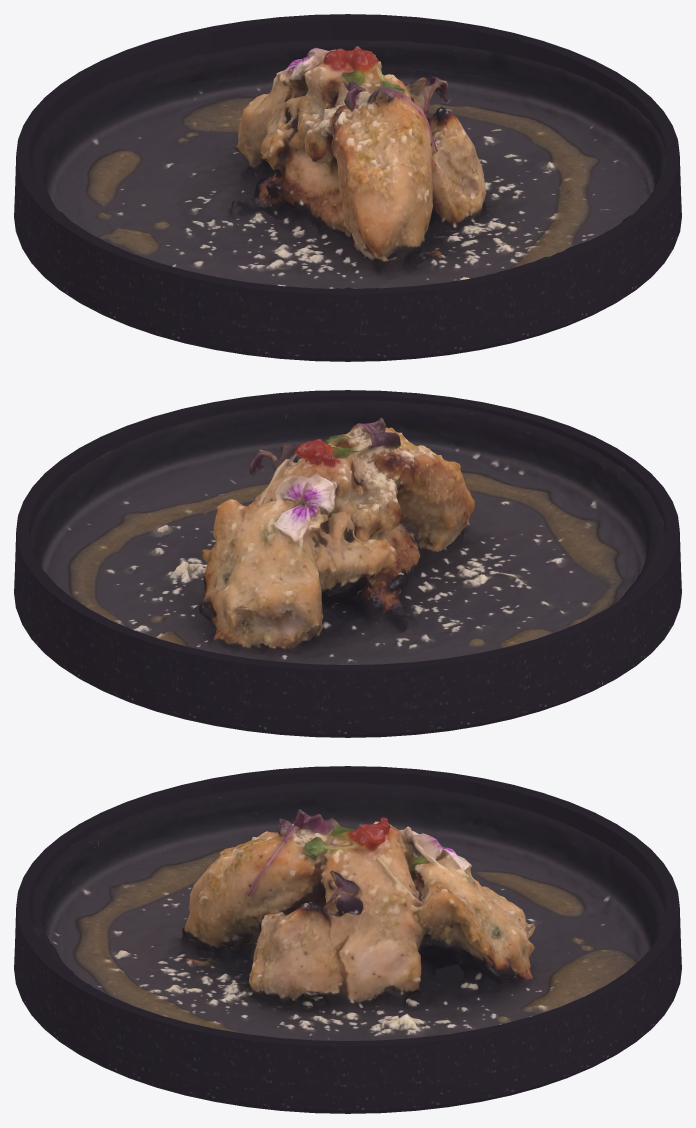
The model's file is Bong Kebab.glb.
The picture shows the model from 3 angles, top to bottom: view 1: azimuth 30°, elevation 25°; view 2: azimuth 150°, elevation 25°; view 3: azimuth 270°, elevation 25°; orthographic projection.
Visible parts, largest first — view 1: model7:default1, pCylinder1.001; view 2: model7:default1, pCylinder1.001; view 3: model7:default1, pCylinder1.001.
Part boxes in pixels (<box>): model7:default1: <box>30,39,666,288</box>; pCylinder1.001: <box>14,14,681,361</box>; model7:default1: <box>30,400,665,664</box>; pCylinder1.001: <box>14,390,681,737</box>; model7:default1: <box>29,781,665,1040</box>; pCylinder1.001: <box>14,766,681,1113</box>.
Size of the model in its own units: 0.1477 by 0.0396 by 0.1477.
Materials: 2 (2 with a texture image).
